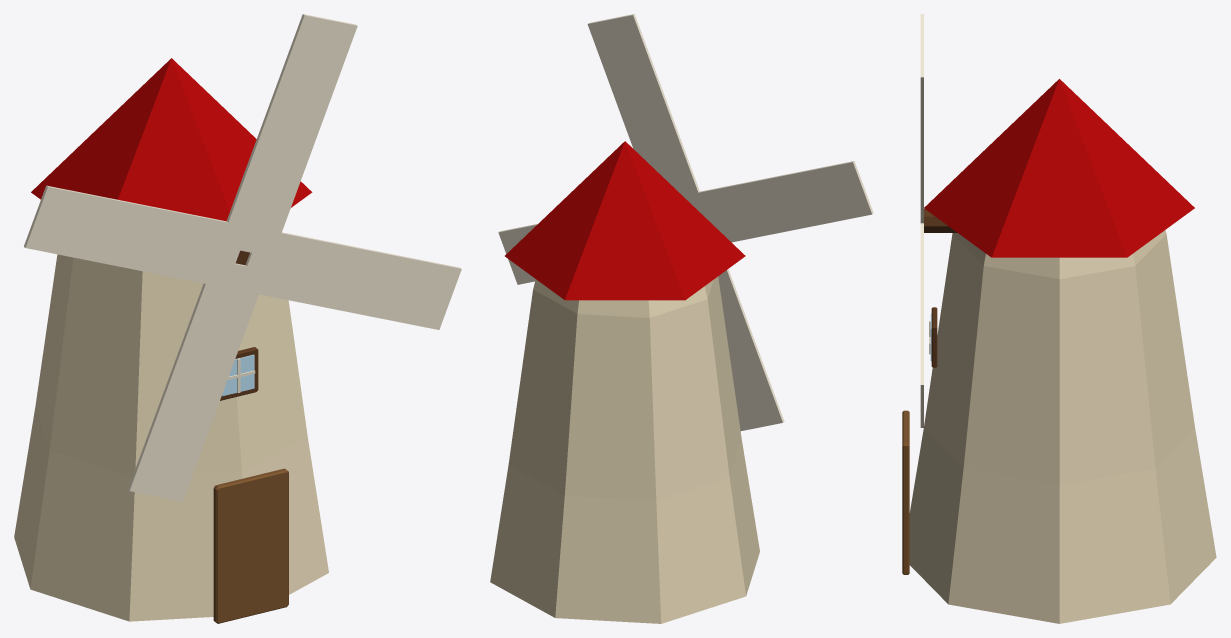
Rendered from home_windmill.glb.
3 views of the same model, side by side, from view 1: azimuth 30°, elevation 25°; view 2: azimuth 150°, elevation 25°; view 3: azimuth 270°, elevation 25° (orthographic). The views are drawn at different scales.
Parts seen in each view (by area): view 1: home_windmill_stone, home_windmill_fabric, home_windmill_plain, home_windmill_wood, home_windmill_glass; view 2: home_windmill_stone, home_windmill_fabric, home_windmill_plain; view 3: home_windmill_stone, home_windmill_plain, home_windmill_wood, home_windmill_fabric.
Boxes of the visible parts, left/top/right/bottom form: home_windmill_stone: left=14, top=254, right=328, bottom=621; home_windmill_fabric: left=24, top=14, right=461, bottom=501; home_windmill_plain: left=31, top=58, right=312, bottom=221; home_windmill_wood: left=213, top=250, right=288, bottom=623; home_windmill_glass: left=222, top=354, right=254, bottom=396; home_windmill_stone: left=490, top=276, right=759, bottom=623; home_windmill_fabric: left=498, top=14, right=873, bottom=430; home_windmill_plain: left=505, top=141, right=745, bottom=300; home_windmill_stone: left=909, top=230, right=1216, bottom=623; home_windmill_plain: left=924, top=79, right=1194, bottom=257; home_windmill_wood: left=902, top=209, right=957, bottom=574; home_windmill_fabric: left=920, top=14, right=923, bottom=427.
Size of the model in its own units: 6.8 by 8.62 by 4.4.
